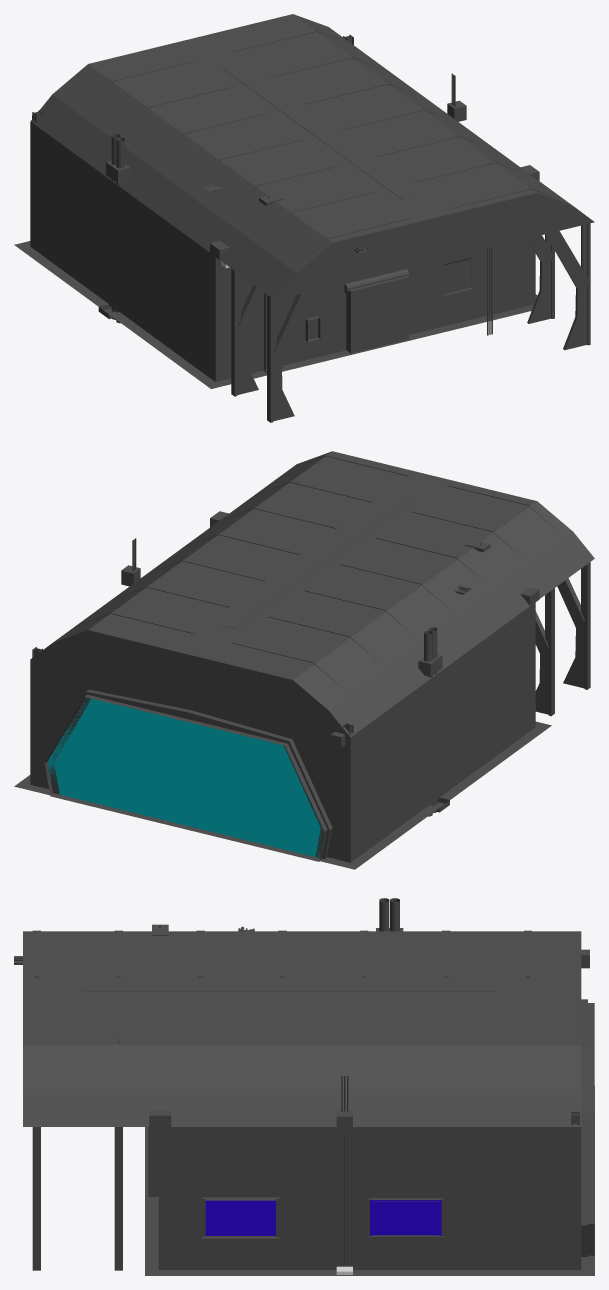
Rendered from FBX_WarehouseDock.fbx.
3 views of the same model, one above another, from view 1: azimuth 30°, elevation 25°; view 2: azimuth 150°, elevation 25°; view 3: azimuth 270°, elevation 25° (orthographic). The views are drawn at different scales.
Parts seen in each view (by area): view 1: Warehouse, Buttresses, Gantry; view 2: Warehouse, Buttresses, Gantry; view 3: Warehouse, Buttresses, Gantry.
Part boxes in pixels (x1,y1,x2,y2): Warehouse: [14, 14, 594, 388]; Buttresses: [52, 29, 590, 422]; Gantry: [222, 64, 414, 199]; Warehouse: [14, 451, 594, 869]; Buttresses: [75, 454, 590, 846]; Gantry: [222, 493, 414, 628]; Warehouse: [23, 931, 594, 1275]; Buttresses: [32, 930, 531, 1270]; Gantry: [83, 984, 495, 991].
Size of the model in its own units: 10984 by 5665 by 14197.
